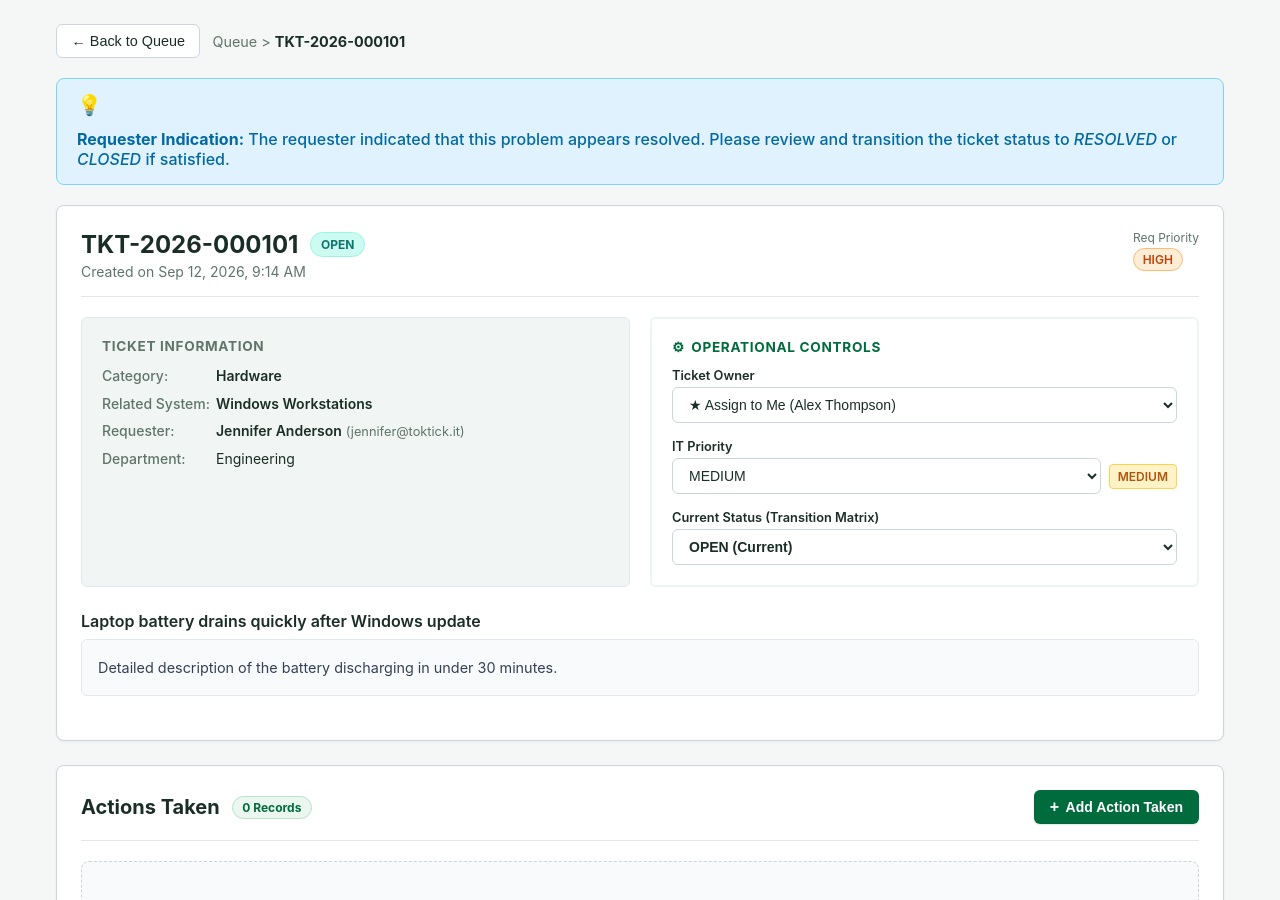
Test: UI-04 & UI-05: StaffTicketDetail Component Tests › UI-04: Operational Controls & Status Transition Matrix › restricts status dropdown options according to Permitted Transition Matrix
Note: Transition to IN_PROGRESS
Select "→ Transition to IN_PROGRESS" in the dropdown with test id "ticket-status-select". click: [924, 547]
box: left=672, top=529, right=1177, bottom=565
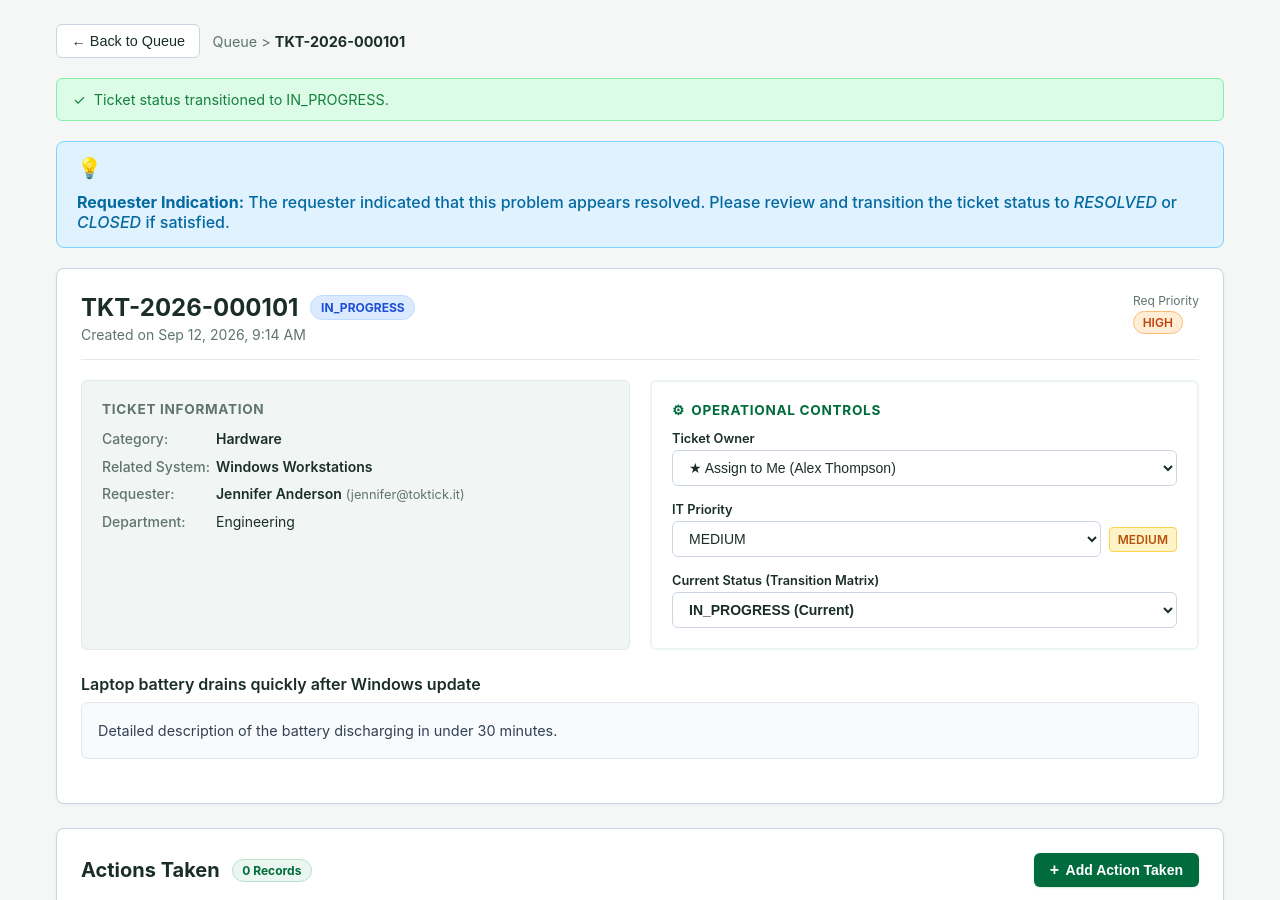
expect the text "Ticket status transitioned to IN_PROGRESS." is shown: met, box left=94, top=91, right=389, bottom=108
